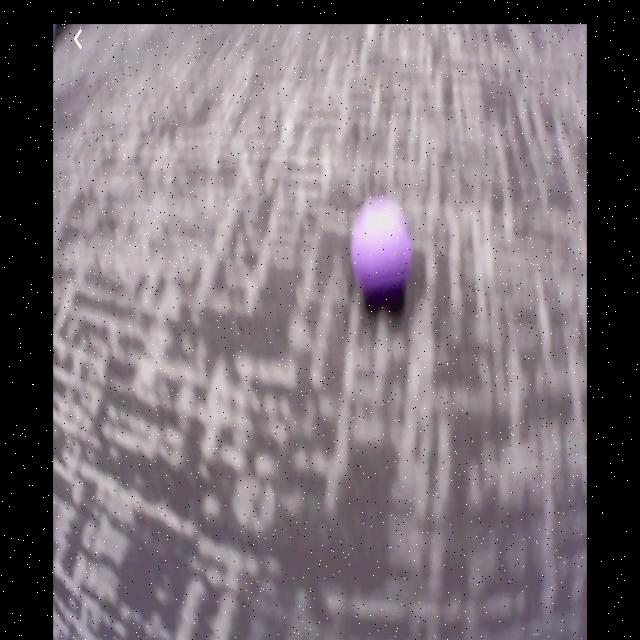ball: (350, 201, 411, 293)
